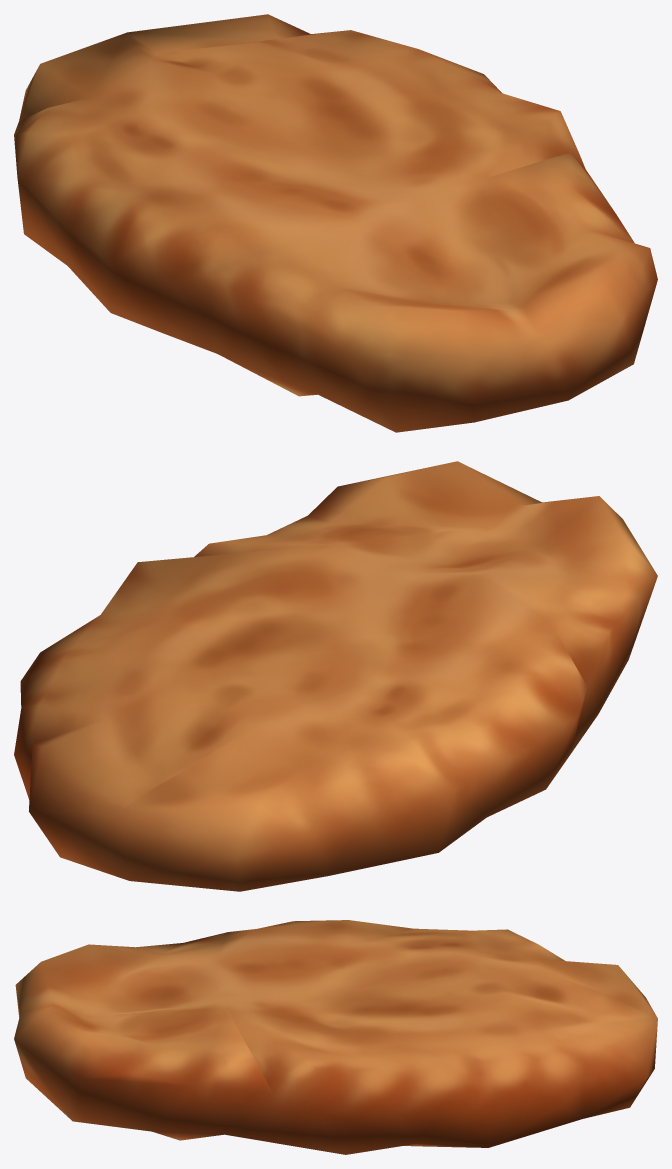
File: shabowykotlet.fbx
3 views of the same model, one above another, from view 1: azimuth 30°, elevation 25°; view 2: azimuth 150°, elevation 25°; view 3: azimuth 270°, elevation 25° (orthographic). The views are drawn at different scales.
Parts seen in each view (by area): view 1: shabowykotlet; view 2: shabowykotlet; view 3: shabowykotlet.
Boxes of the visible parts, left/top/right/bottom form: shabowykotlet: left=14, top=14, right=657, bottom=432; shabowykotlet: left=14, top=461, right=657, bottom=891; shabowykotlet: left=14, top=920, right=657, bottom=1154.
Bounding box in the file's own units: 16.95 × 5.36 × 26.77.
